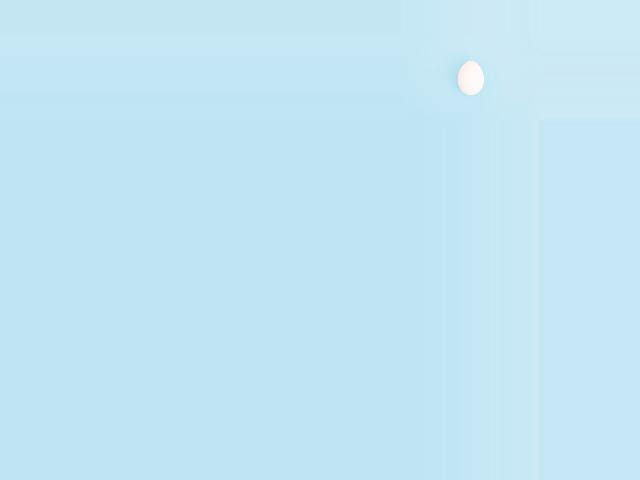egg: (457, 60, 484, 95)
